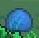slime: (1, 0, 39, 38)
